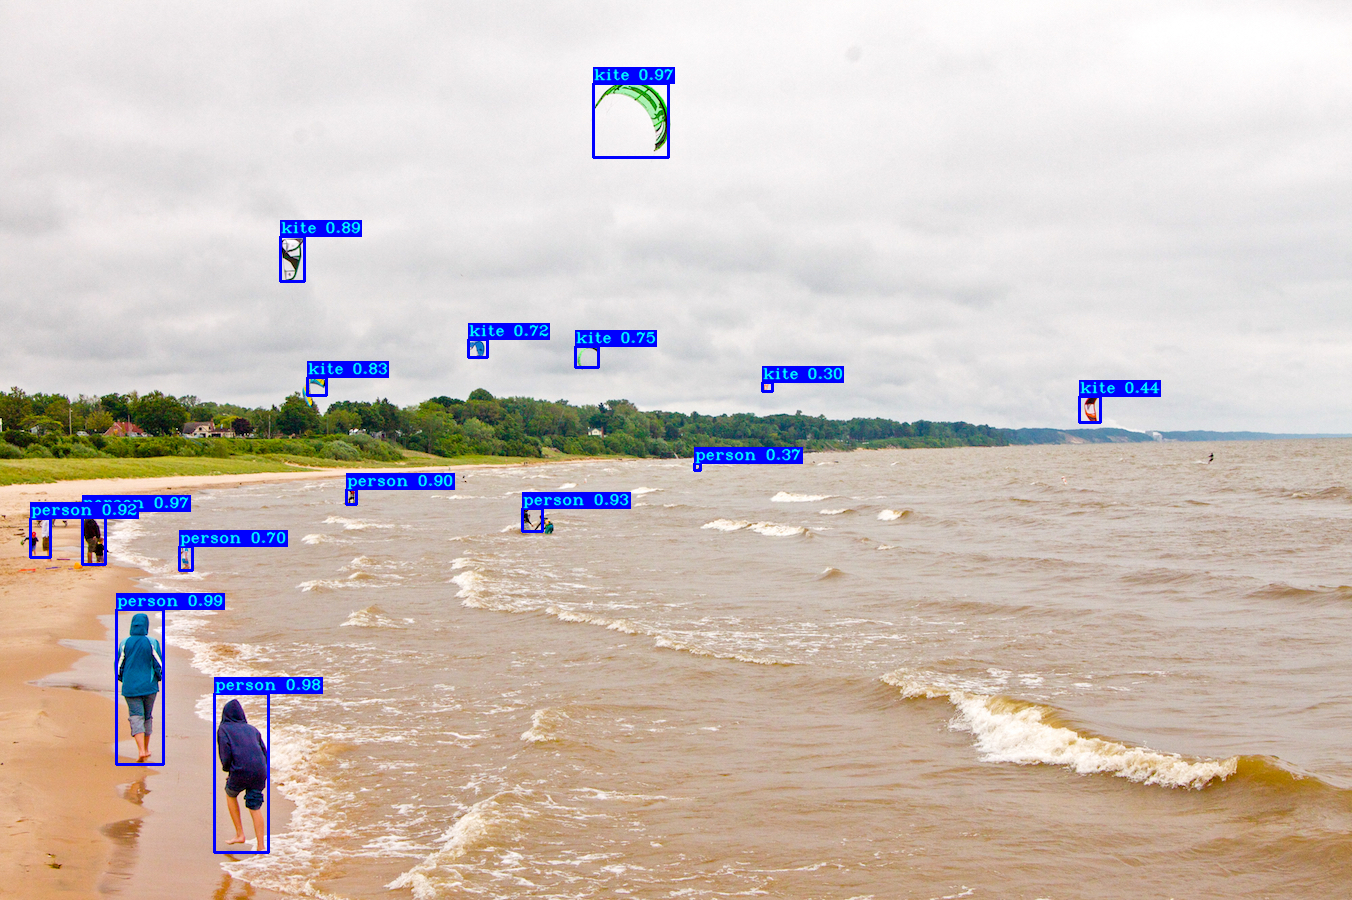kite: (593, 83, 668, 157), (280, 236, 304, 281), (1079, 396, 1100, 422), (575, 346, 598, 367), (307, 377, 326, 395), (468, 339, 487, 357), (762, 382, 772, 391)
person: (214, 693, 268, 852), (116, 609, 163, 764), (82, 511, 105, 564), (30, 518, 50, 557), (522, 508, 542, 531), (179, 546, 192, 570), (346, 489, 356, 504), (694, 463, 700, 470)
